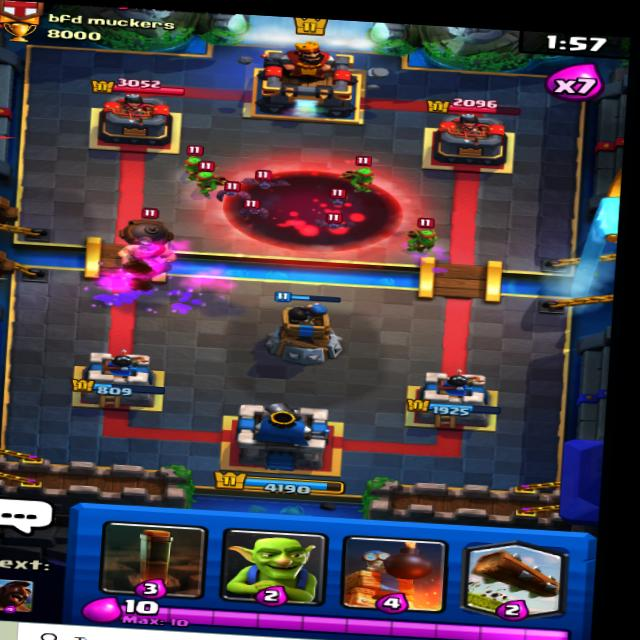Bat: (247, 170, 282, 194), (237, 196, 275, 218), (317, 209, 351, 231), (318, 188, 348, 207)
Mightyminer: (98, 198, 195, 281)
Speargoblin: (417, 216, 460, 252), (340, 158, 377, 193), (188, 169, 225, 199), (178, 151, 214, 179)
Void: (225, 155, 406, 257)
